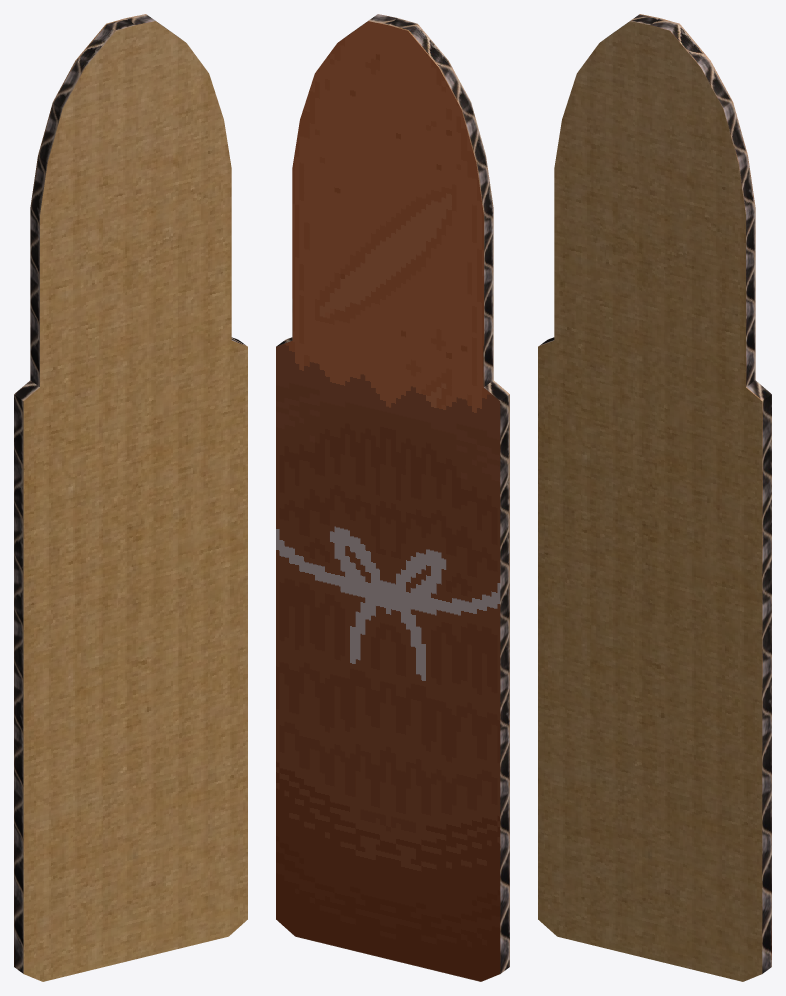
File: FLAUTITA.glb
3 renders of one model, left to right at view 1: azimuth 30°, elevation 25°; view 2: azimuth 150°, elevation 25°; view 3: azimuth 330°, elevation 25°, orthographic.
Visible parts, largest first — view 1: FLAUTITA; view 2: FLAUTITA; view 3: FLAUTITA.
Part boxes in pixels (<box>): FLAUTITA: <box>14,14,247,981</box>; FLAUTITA: <box>276,14,509,981</box>; FLAUTITA: <box>538,14,771,981</box>.
Bounding box in the file's own units: 1.2 × 4.77 × 0.09.
Materials: 1 (1 with a texture image).
